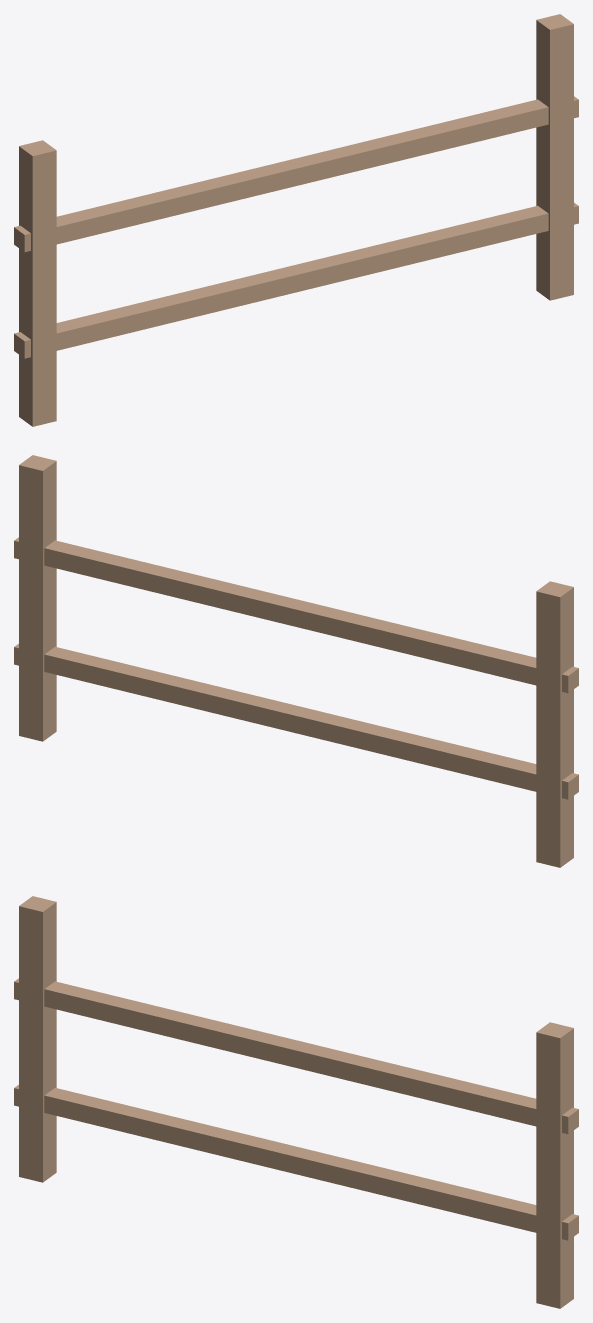
The model's file is rail_fence.glb.
The picture shows the model from 3 angles, top to bottom: view 1: azimuth 30°, elevation 25°; view 2: azimuth 150°, elevation 25°; view 3: azimuth 330°, elevation 25°; orthographic projection.
Parts seen in each view (by area): view 1: rail_fence_003, rail_fence_002, rail_fence_000, rail_fence_001; view 2: rail_fence_003, rail_fence_002, rail_fence_000, rail_fence_001; view 3: rail_fence_003, rail_fence_002, rail_fence_001, rail_fence_000.
Part boxes in pixels (x1,y1,x2,y2): rail_fence_003: [14, 96, 578, 252]; rail_fence_002: [14, 202, 578, 358]; rail_fence_000: [19, 140, 56, 426]; rail_fence_001: [536, 14, 573, 300]; rail_fence_003: [14, 537, 578, 693]; rail_fence_002: [14, 643, 578, 799]; rail_fence_000: [536, 581, 573, 867]; rail_fence_001: [19, 455, 56, 741]; rail_fence_003: [14, 978, 578, 1134]; rail_fence_002: [14, 1084, 578, 1240]; rail_fence_001: [536, 1022, 573, 1308]; rail_fence_000: [19, 896, 56, 1182].
Size of the model in its own units: 3 by 1.4 by 0.13.
